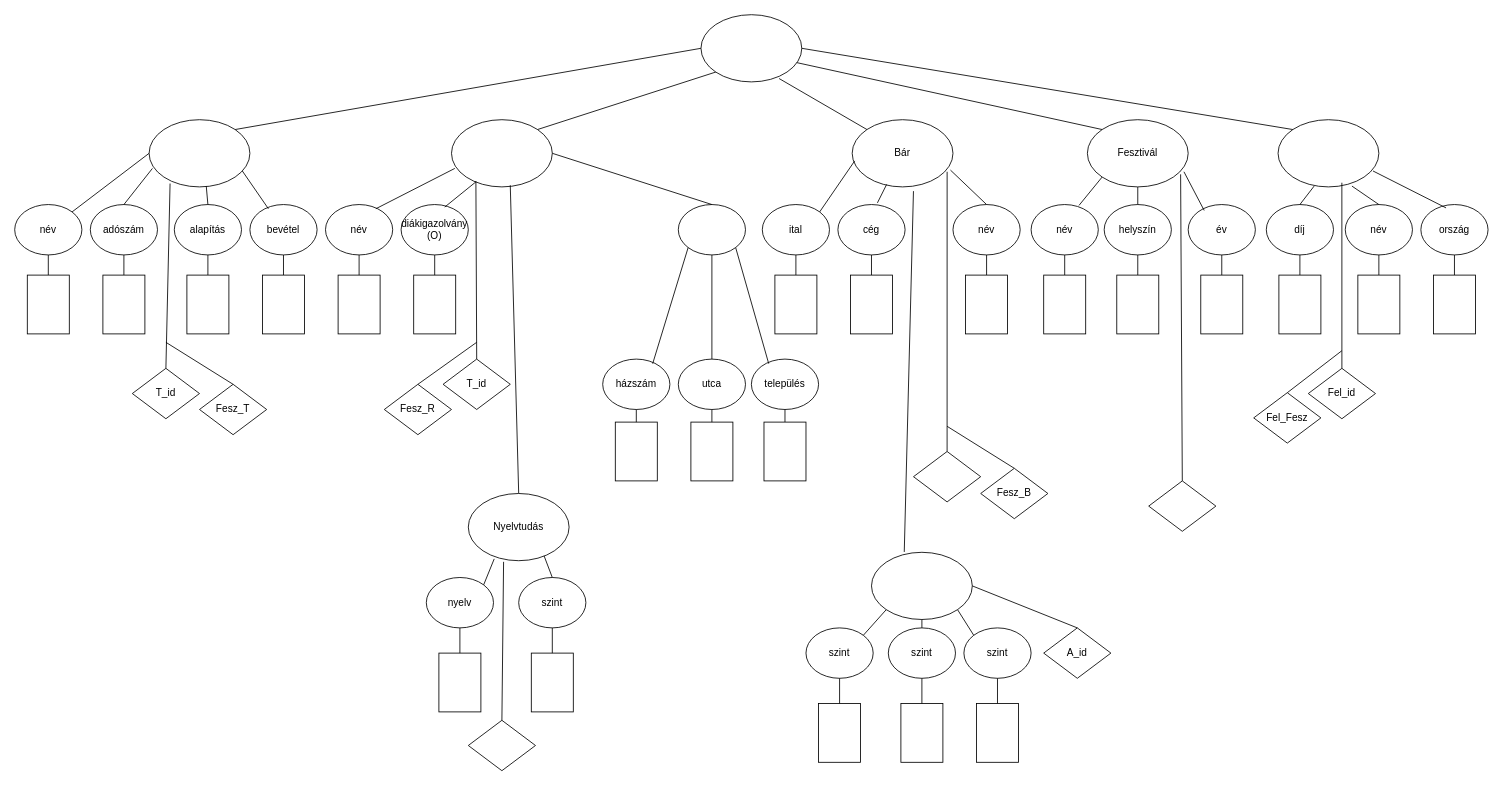
Some shapes in this 1503 by 785 pixel diagram are drawn without their labels. The shapes that lost their labels are listed below. From the top down, each one's centre as x and y in pixels, then its label:
At (751,48): "Fesztivál_I5XJTC".
At (199,153): "Tulajdonos".
At (501,153): "Résztvevő".
At (1328,153): "Fellépő".
At (711,229): "(lakcím)".
At (947,476): "B_id".
At (1182,505): "Fesz_id".
At (921,585): "Alkalmazott".
At (501,745): "Ny_id".
